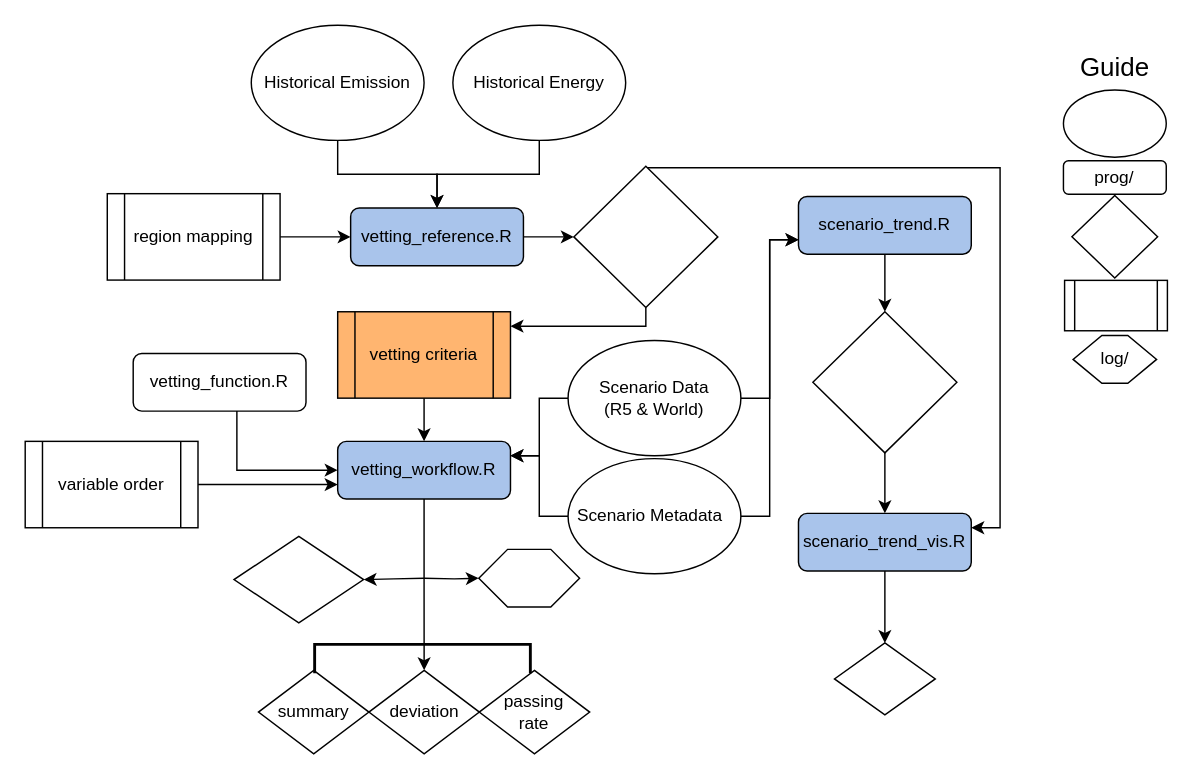
Some shapes in this 1194 by 779 pixel diagram are drawn without their labels. The centre of each missing label's shape, as x and y in pixels:
"data/" belongs at [1114,123].
"define/" belongs at [1115,305].
"log" belongs at [528,577].
"output/" belongs at [1114,236].
"processed historical data" belongs at [645,236].
"processed scenario data" belongs at [884,381].
"trend" belongs at [884,678].
"vetted data" belongs at [298,579].
